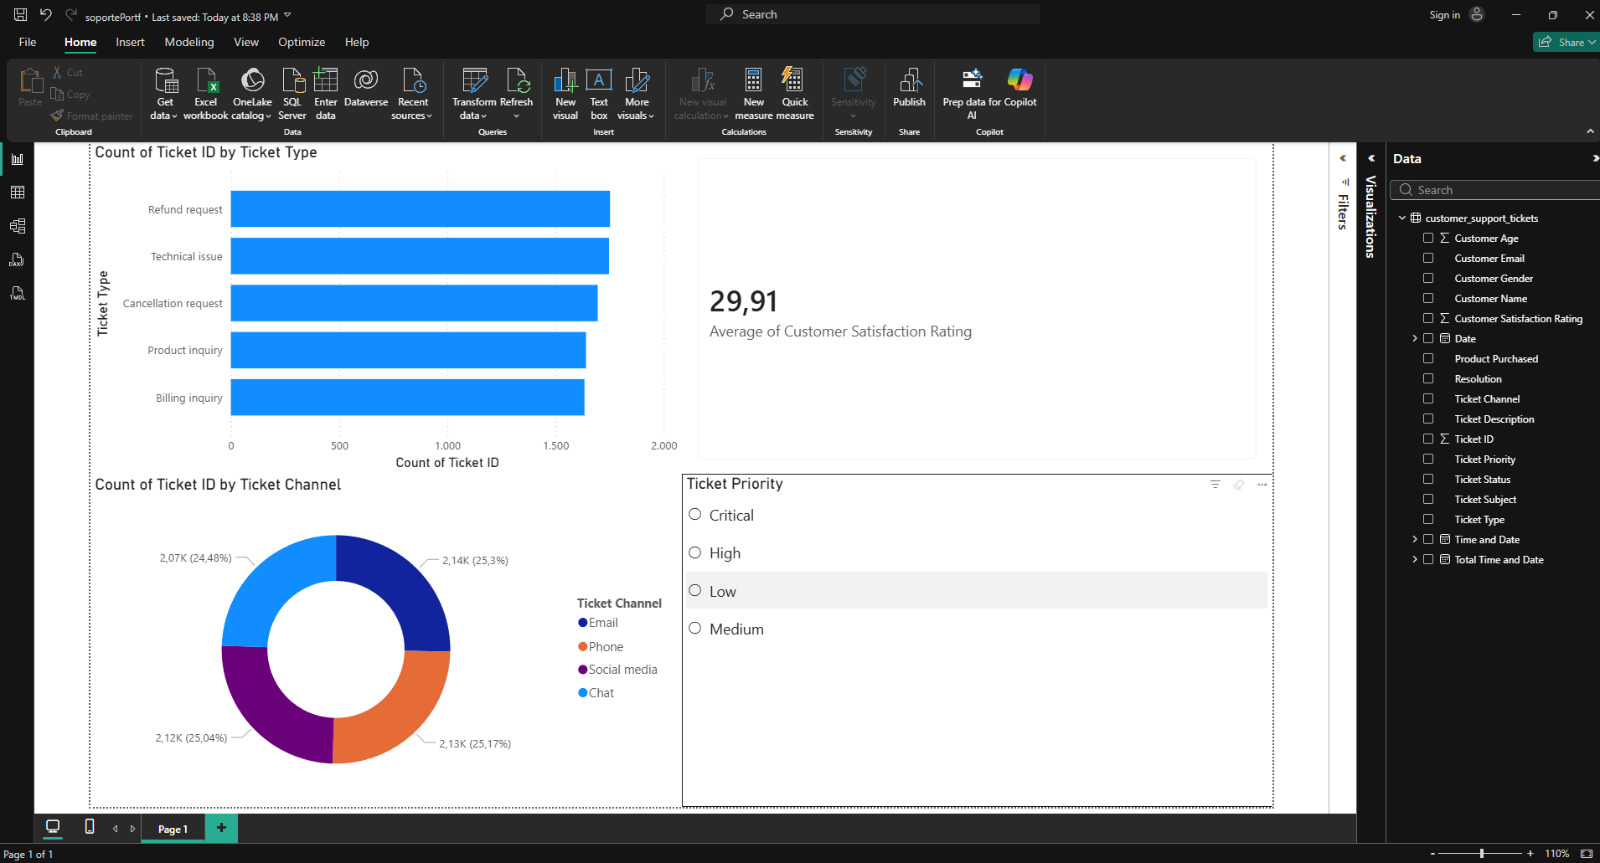

The page's visual inventory and layout, read from the dashboard file:
{"tool":"powerbi","page":{"name":"Page 1","canvas":[1280,720],"ordinal":0},"visuals":[{"type":"barChart","fields":{"Category":["customer_support_tickets.Ticket Type"],"Y":["CountNonNull(customer_support_tickets.Ticket ID)"]},"box":[0,0,640.5,359.8],"z":0},{"type":"donutChart","fields":{"Category":["customer_support_tickets.Ticket Channel"],"Y":["CountNonNull(customer_support_tickets.Ticket ID)"]},"box":[0,359.8,640.5,359.8],"z":1000},{"type":"cardVisual","fields":{"Data":["Avg(customer_support_tickets.Customer Satisfaction Rating)"]},"box":[640.5,0,639.5,360.4],"z":2000},{"type":"listSlicer","fields":{"Values":["customer_support_tickets.Ticket Priority"]},"box":[640.5,359.3,639.5,360.4],"z":3000}]}

Visuals, with their boxes on the page's 1280x720 design canvas (x1, y1, x2, y2). These are canvas units, not pixel positions in the 1600x863 screenshot, which may show the page scaled, cropped or inside an application window:
barChart - customer_support_tickets.Ticket Type x CountNonNull(customer_support_tickets.Ticket ID): (x1=0, y1=0, x2=640, y2=360)
donutChart - customer_support_tickets.Ticket Channel x CountNonNull(customer_support_tickets.Ticket ID): (x1=0, y1=360, x2=640, y2=720)
cardVisual - Avg(customer_support_tickets.Customer Satisfaction Rating): (x1=640, y1=0, x2=1280, y2=360)
listSlicer - customer_support_tickets.Ticket Priority: (x1=640, y1=359, x2=1280, y2=720)
